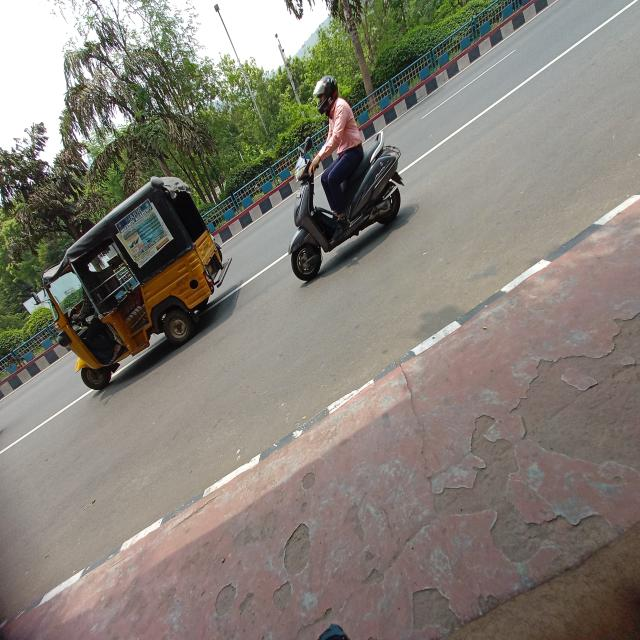bike: (268, 145, 409, 278)
